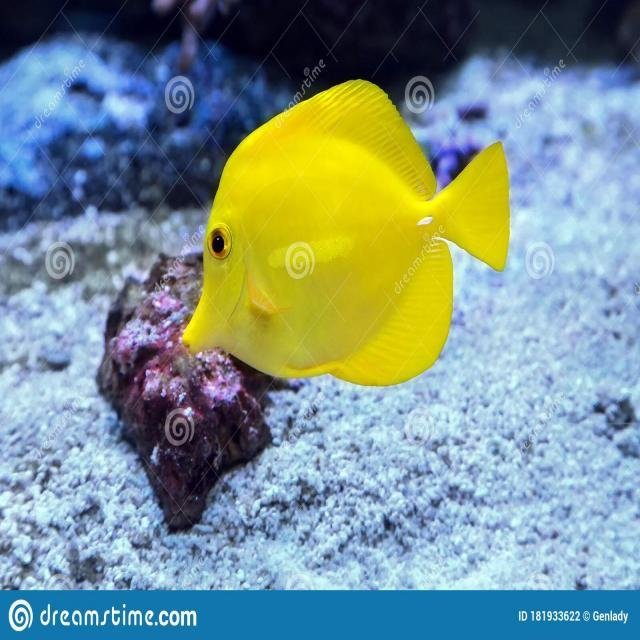YellowTang: (156, 68, 519, 438)
